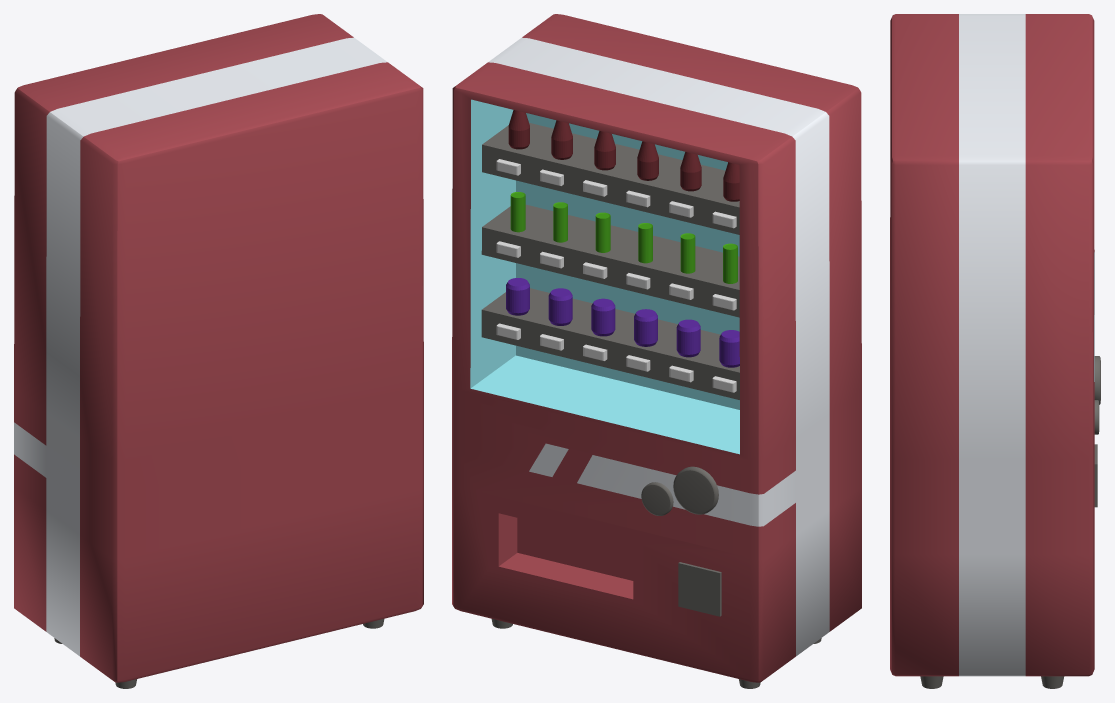
Rendered from vending machine v2.fbx.
3 renders of one model, left to right at view 1: azimuth 30°, elevation 25°; view 2: azimuth 150°, elevation 25°; view 3: azimuth 270°, elevation 25°, orthographic.
Parts seen in each view (by area): view 1: body; view 2: body, board, button, can, bottle, thincan, decorate, coin; view 3: body, Cylinder, decorate.
Part boxes in pixels (x1,y1,x2,y2): body: [14, 14, 423, 682]; body: [452, 14, 861, 682]; board: [481, 123, 739, 399]; button: [496, 159, 736, 392]; can: [506, 278, 739, 367]; bottle: [508, 110, 739, 201]; thincan: [510, 192, 737, 283]; decorate: [641, 466, 718, 515]; coin: [678, 562, 721, 616]; body: [890, 14, 1094, 676]; Cylinder: [920, 676, 1064, 688]; decorate: [1094, 356, 1100, 434].
Bounding box in the file's own units: 517 × 865 × 307.
